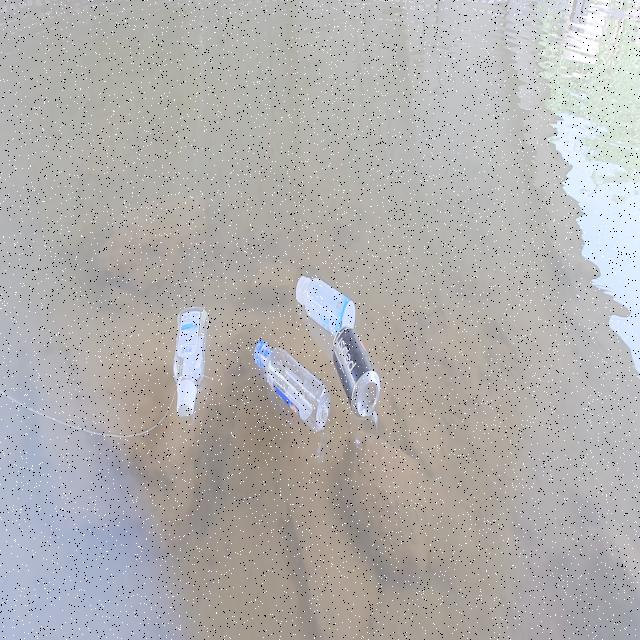Bottle: (249, 336, 329, 436), (171, 302, 210, 419), (294, 269, 358, 334)
Can: (329, 325, 382, 418)
